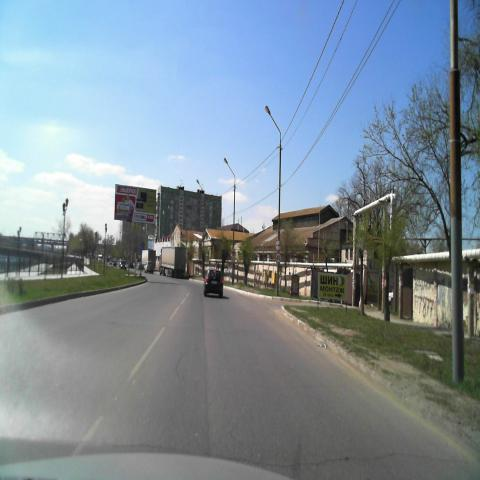1_17: (231, 246, 236, 254)
3_20: (275, 239, 281, 251)
3_24: (275, 252, 281, 264), (231, 255, 235, 263)
